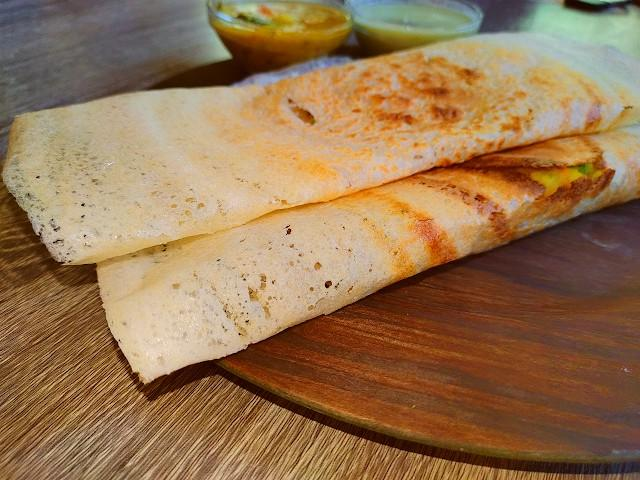Dosa: (3, 35, 640, 261), (97, 126, 640, 385)
